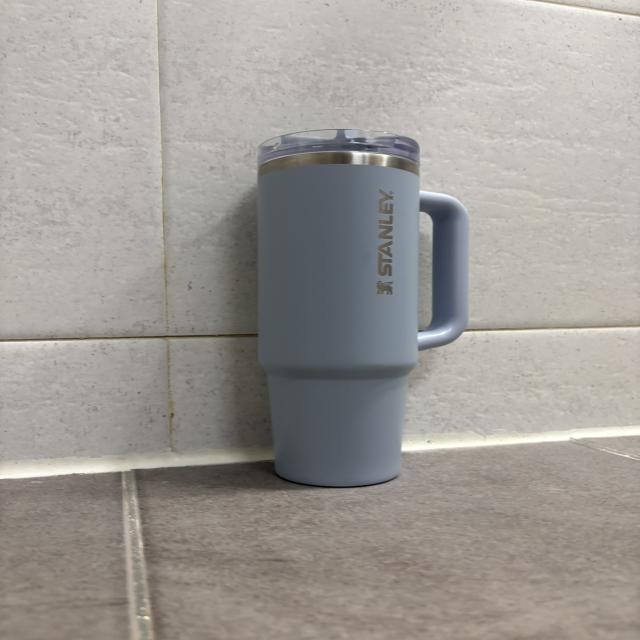waterbottle: (260, 130, 467, 488)
